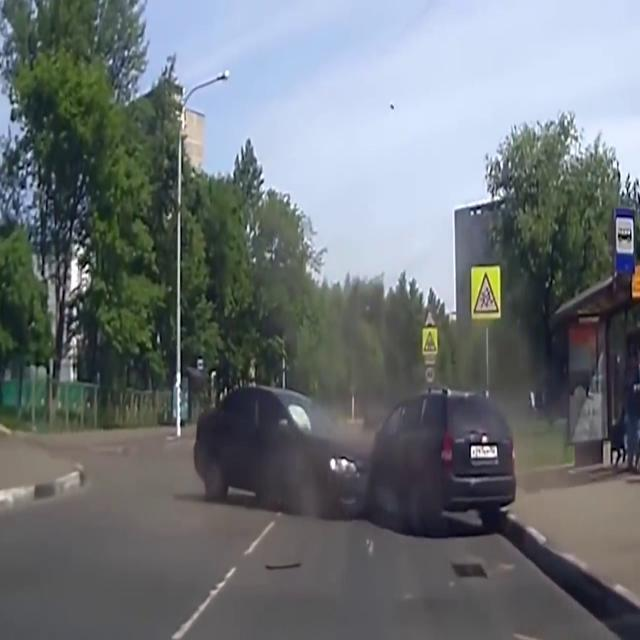accident: (196, 388, 516, 536)
